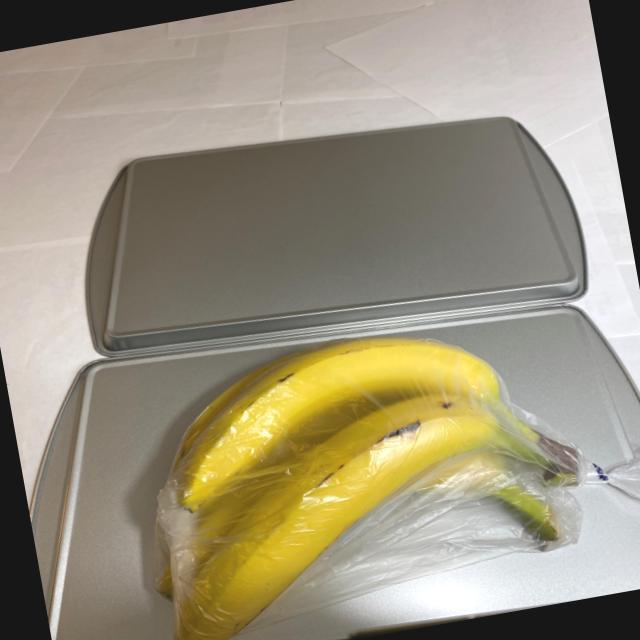banana: (105, 297, 622, 640)
